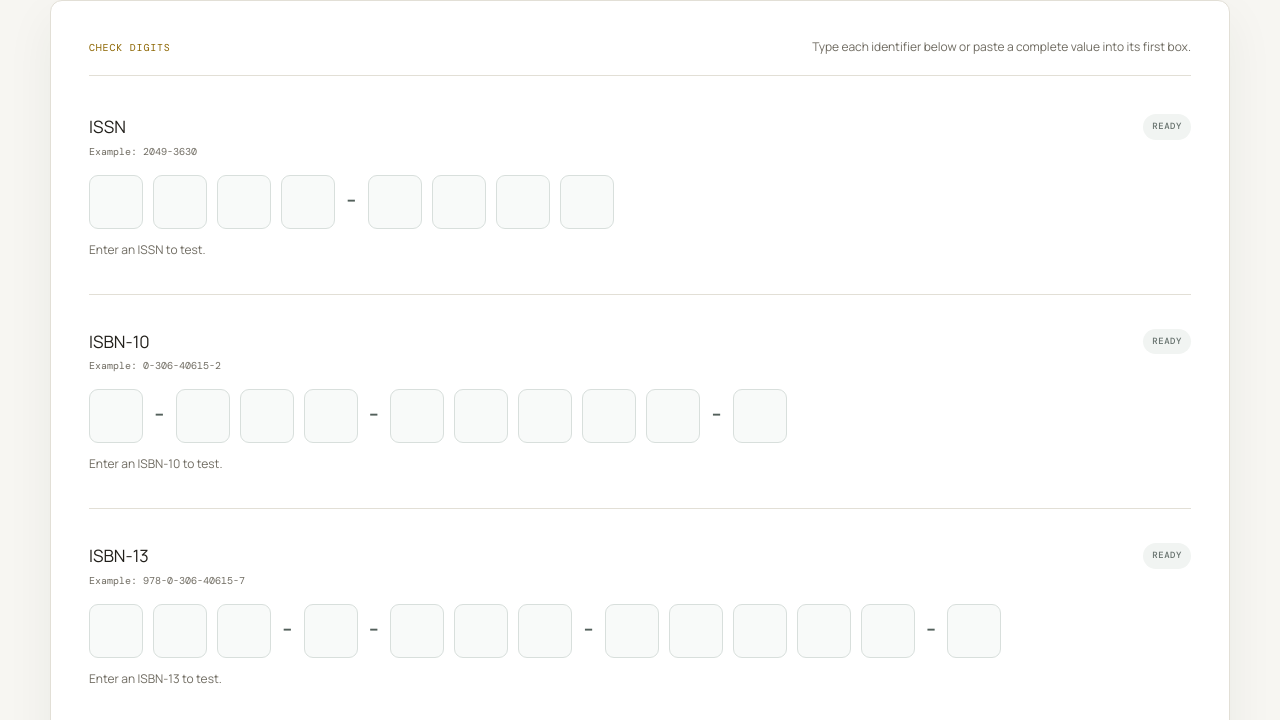
IssnIsbnValidatorTool › advances while typing and validates a completed ISSN
Click the field named "ISSN character 1 of 8". click: (116, 202)
box: [89, 174, 143, 228]
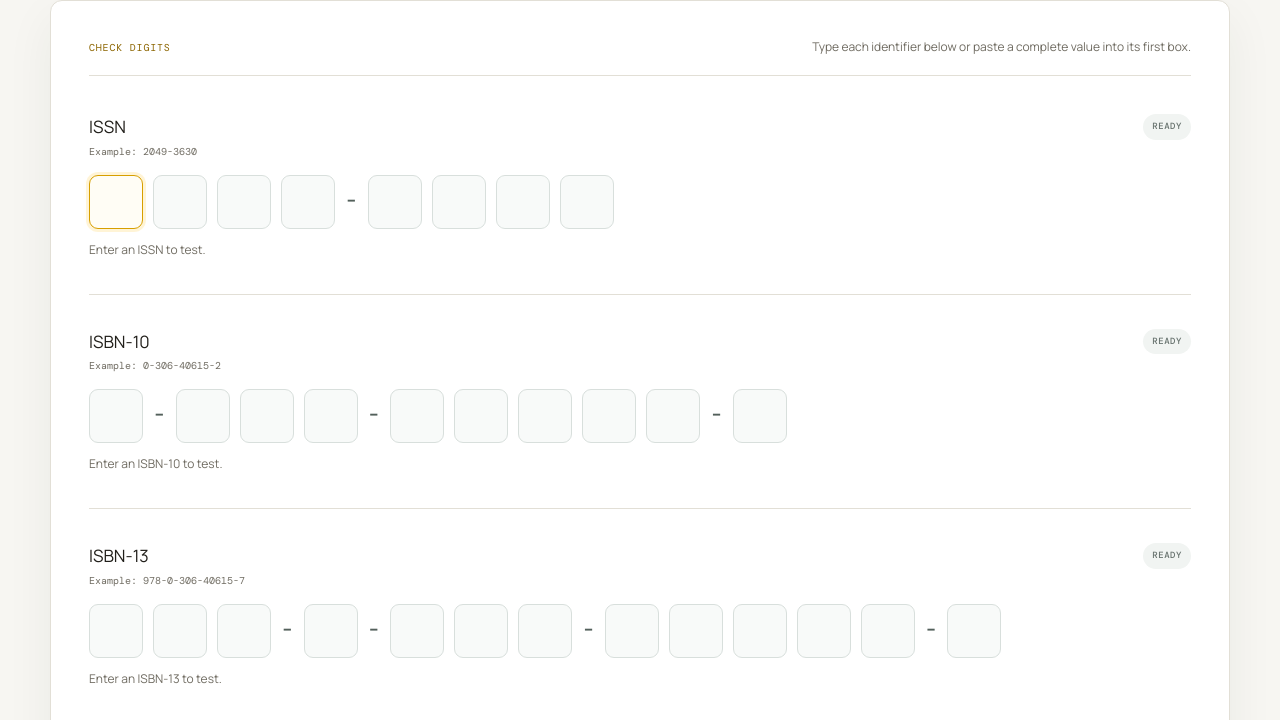
Type keys "20493630"
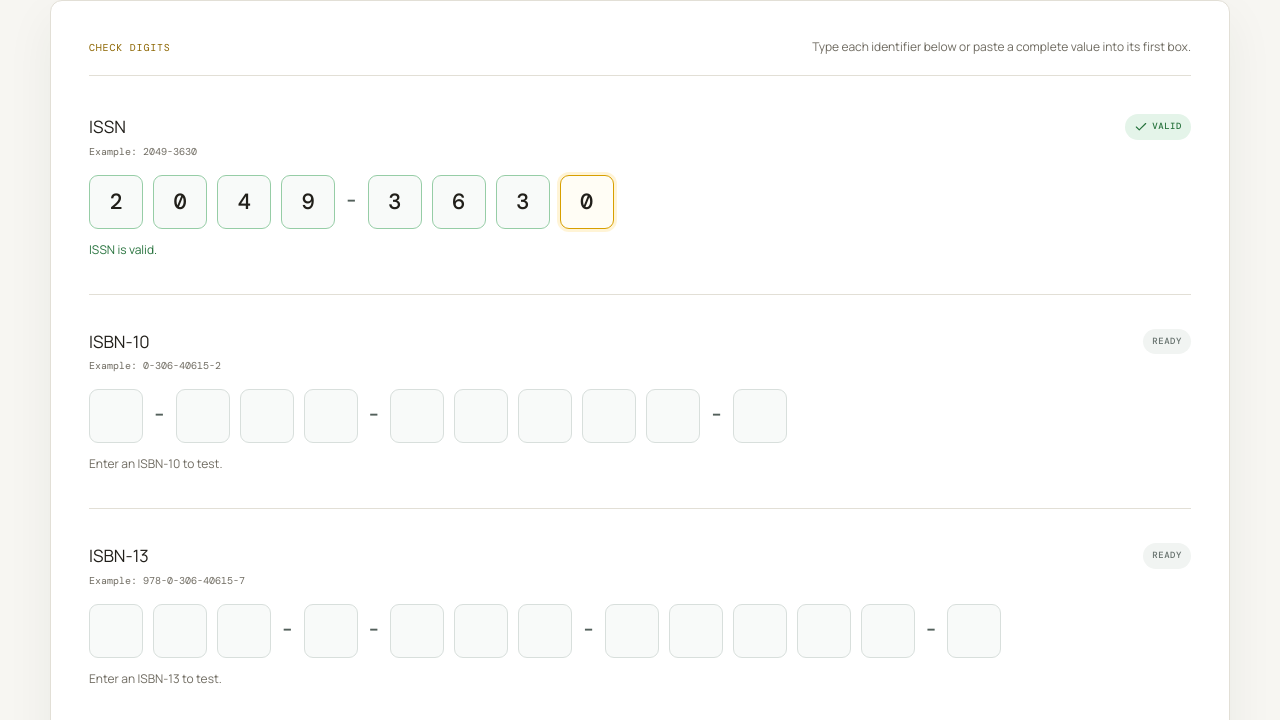
Expected: the text "ISSN is valid." is shown, [89, 240, 157, 258]
Expected: the field named "ISSN character 8 of 8" holds "0", [560, 174, 614, 228]
